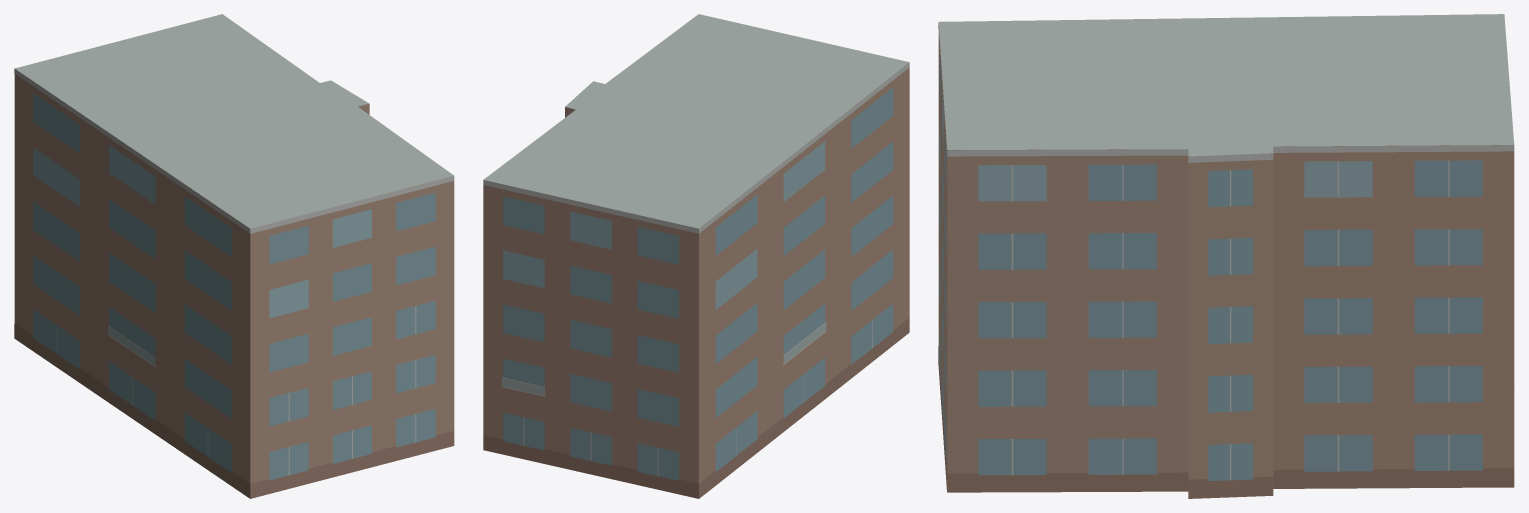
The model's file is survey-upis-32583943.glb.
3 views of the same model, side by side, from view 1: azimuth 30°, elevation 25°; view 2: azimuth 150°, elevation 25°; view 3: azimuth 270°, elevation 25° (orthographic). The views are drawn at different scales.
Visible parts, largest first — view 1: survey-upis-32583943.tmp; view 2: survey-upis-32583943.tmp; view 3: survey-upis-32583943.tmp.
Boxes of the visible parts, bbox=[...] form: survey-upis-32583943.tmp: bbox=[14, 14, 454, 498]; survey-upis-32583943.tmp: bbox=[483, 14, 909, 498]; survey-upis-32583943.tmp: bbox=[938, 14, 1514, 498].
Size of the model in its own units: 11.61 by 13 by 19.82.
